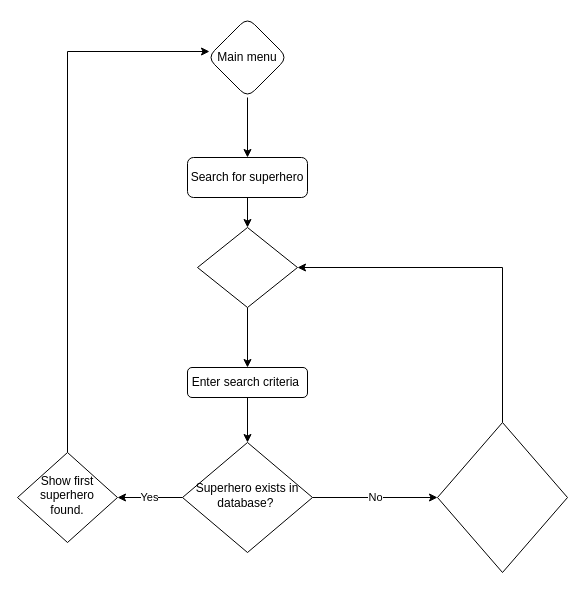
Image size: 585x590. Some labels were removed from this diagram. Here are the shapes that lost their labels. From the top down, the centre of each, then its label:
At (x=247, y=267): "Please enter search criteria".
At (x=502, y=497): "Superhero does not exist, plz try again.".
